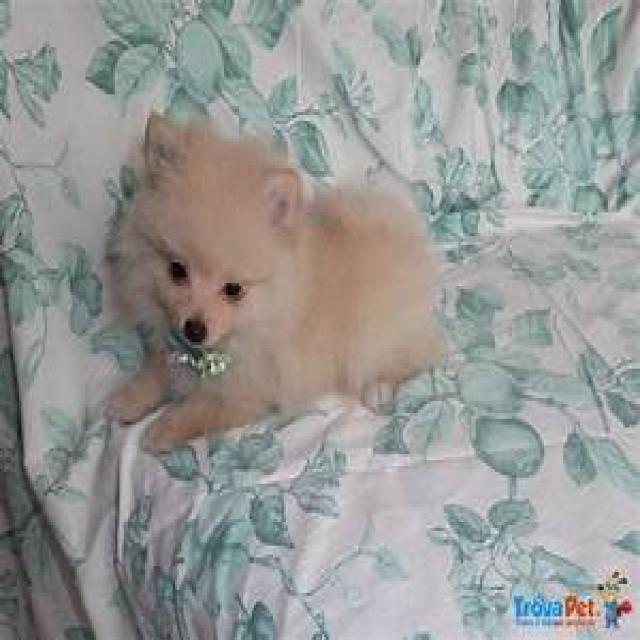animal: (92, 107, 447, 460)
